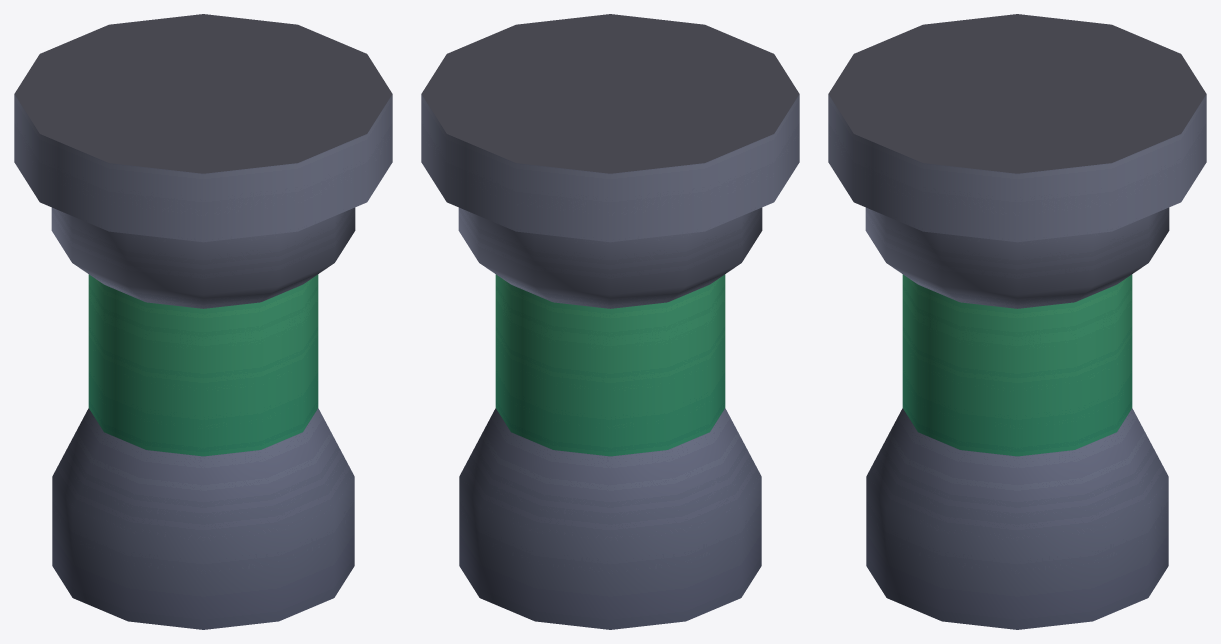
File: column.glb
3 renders of one model, left to right at view 1: azimuth 30°, elevation 25°; view 2: azimuth 150°, elevation 25°; view 3: azimuth 270°, elevation 25°, orthographic.
Visible parts, largest first — view 1: column; view 2: column; view 3: column.
Part boxes in pixels (x1=…): column: x1=14, y1=14, x2=392, y2=629; column: x1=421, y1=14, x2=799, y2=629; column: x1=828, y1=14, x2=1206, y2=629.
Bounding box in the file's own units: 0.7258 × 1 × 0.7258.
1 material, 1 textured.
